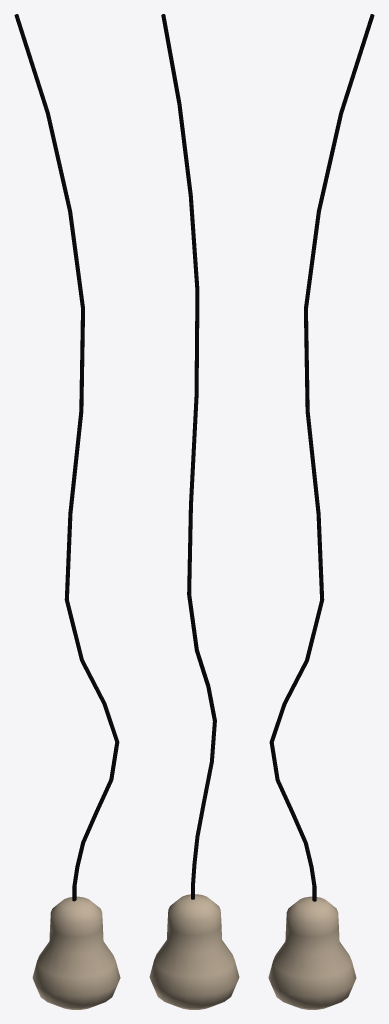
The model's file is light.FBX.
3 renders of one model, left to right at view 1: azimuth 90°, elevation 25°; view 2: azimuth 150°, elevation 25°; view 3: azimuth 270°, elevation 25°, orthographic. The views are drawn at different scales.
Parts seen in each view (by area): view 1: LaundryLight, LaundryLightCable; view 2: LaundryLight, LaundryLightCable; view 3: LaundryLight, LaundryLightCable.
Part boxes in pixels (<box>): LaundryLight: <box>32,896,120,1009</box>; LaundryLightCable: <box>14,14,119,901</box>; LaundryLight: <box>149,894,239,1009</box>; LaundryLightCable: <box>161,14,216,899</box>; LaundryLight: <box>268,896,356,1009</box>; LaundryLightCable: <box>269,14,374,901</box>.
Bounding box in the file's own units: 9.5 × 120 × 11.62.
